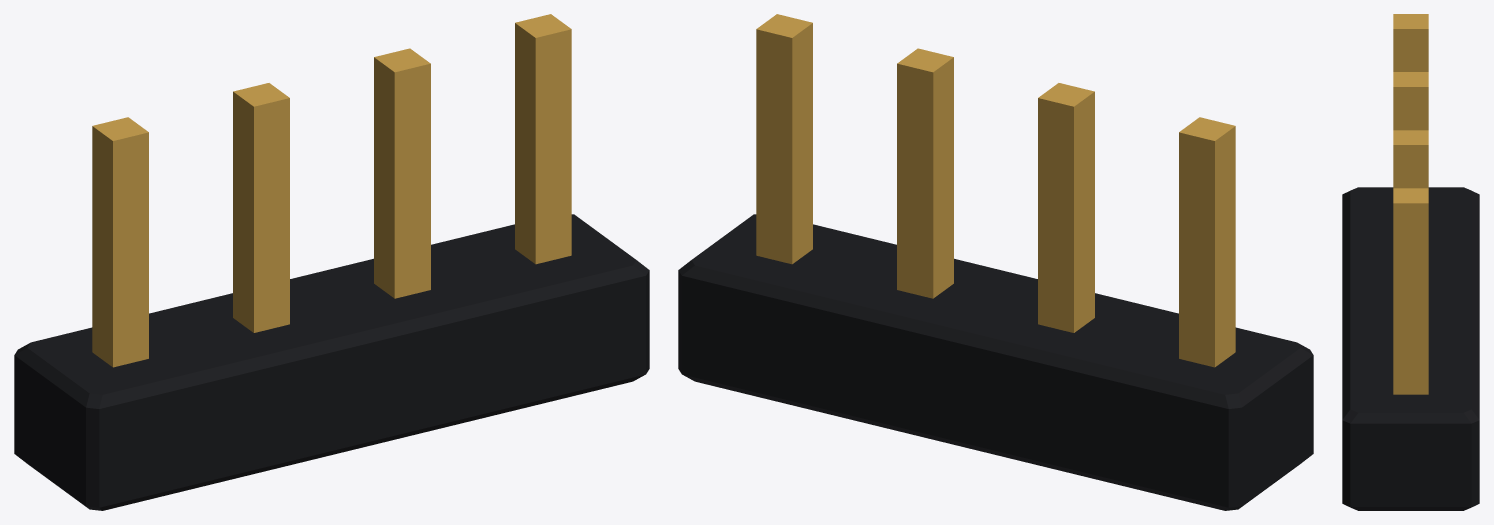
File: L128_FAN_4.fbx
3 renders of one model, left to right at view 1: azimuth 30°, elevation 25°; view 2: azimuth 150°, elevation 25°; view 3: azimuth 270°, elevation 25°, orthographic. The views are drawn at different scales.
Parts seen in each view (by area): view 1: FAN_4__Plastic, FAN_4__Gold; view 2: FAN_4__Plastic, FAN_4__Gold; view 3: FAN_4__Plastic, FAN_4__Gold.
Boxes of the visible parts, <box> form: FAN_4__Plastic: <box>14,214,649,510</box>; FAN_4__Gold: <box>92,14,571,367</box>; FAN_4__Plastic: <box>678,214,1313,510</box>; FAN_4__Gold: <box>756,14,1235,367</box>; FAN_4__Plastic: <box>1342,187,1479,510</box>; FAN_4__Gold: <box>1393,14,1428,394</box>.
Size of the model in its own units: 10.16 by 5.9 by 2.54.
